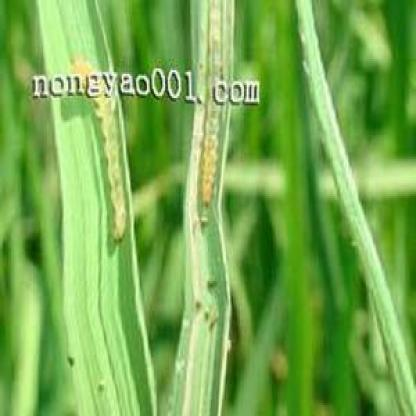leaf-folder: (88, 115, 141, 254), (186, 113, 233, 228)
